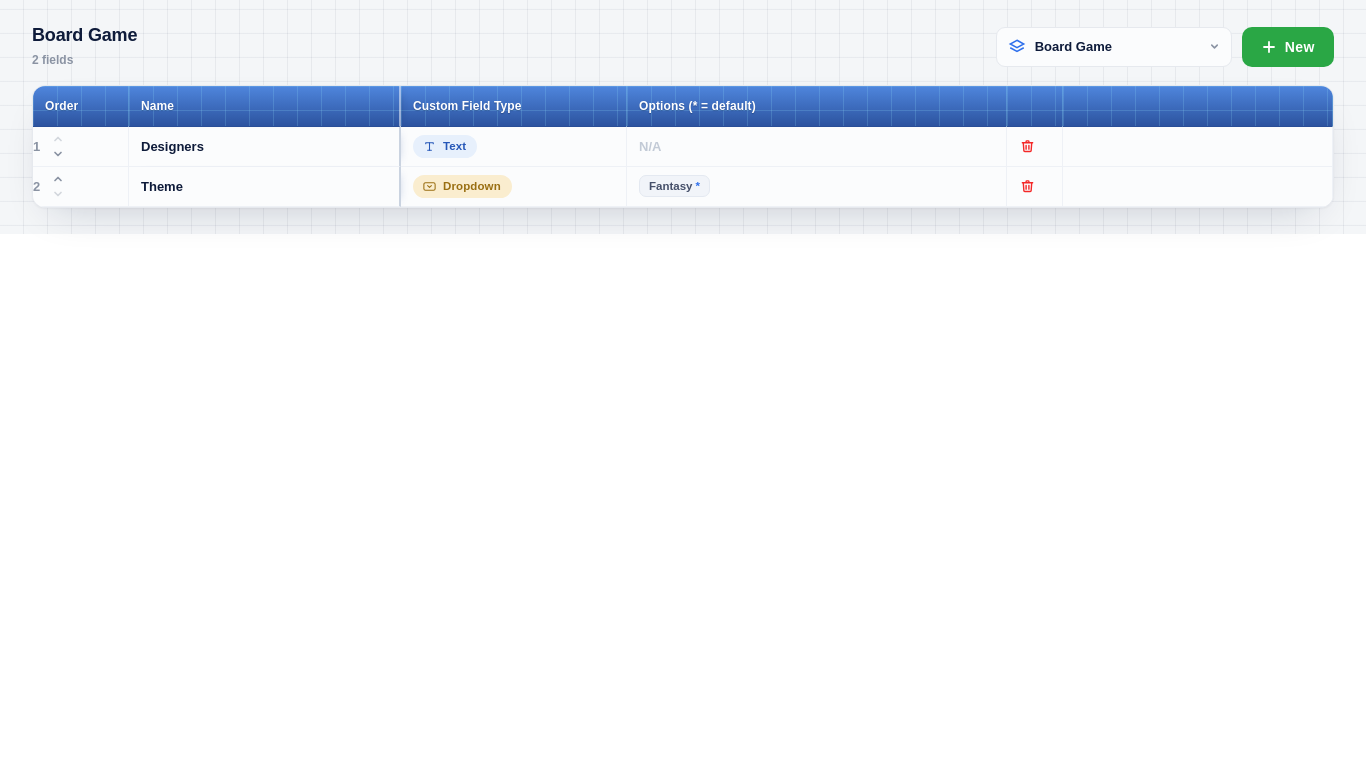
Test: CustomFieldsManager › renames a field inline via the name cell
The width and height of the screenshot is (1366, 768).
Click the button "Designers" at [264, 146], box [135,136,393,157]
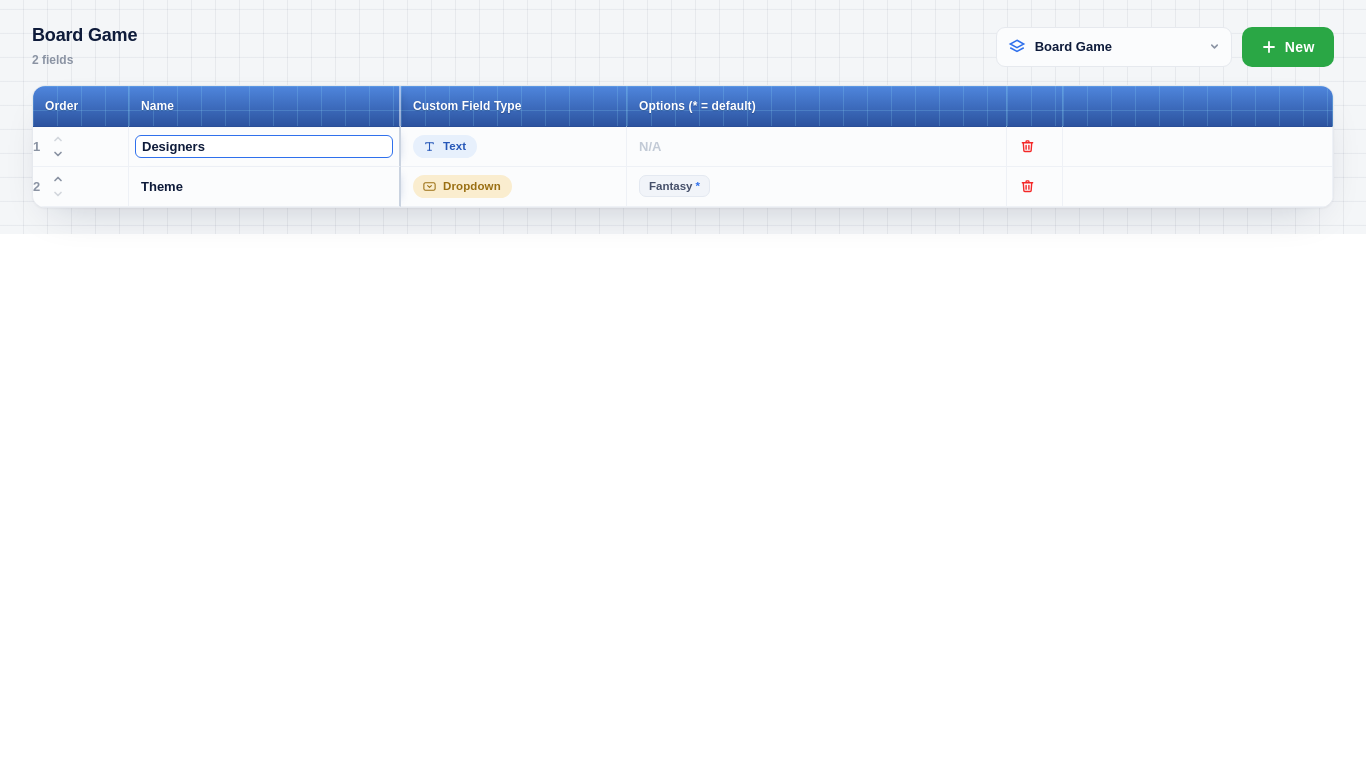
Replace the text in the field named "Name for Designers" with "Designer" at [264, 146], box [135,135,393,158]
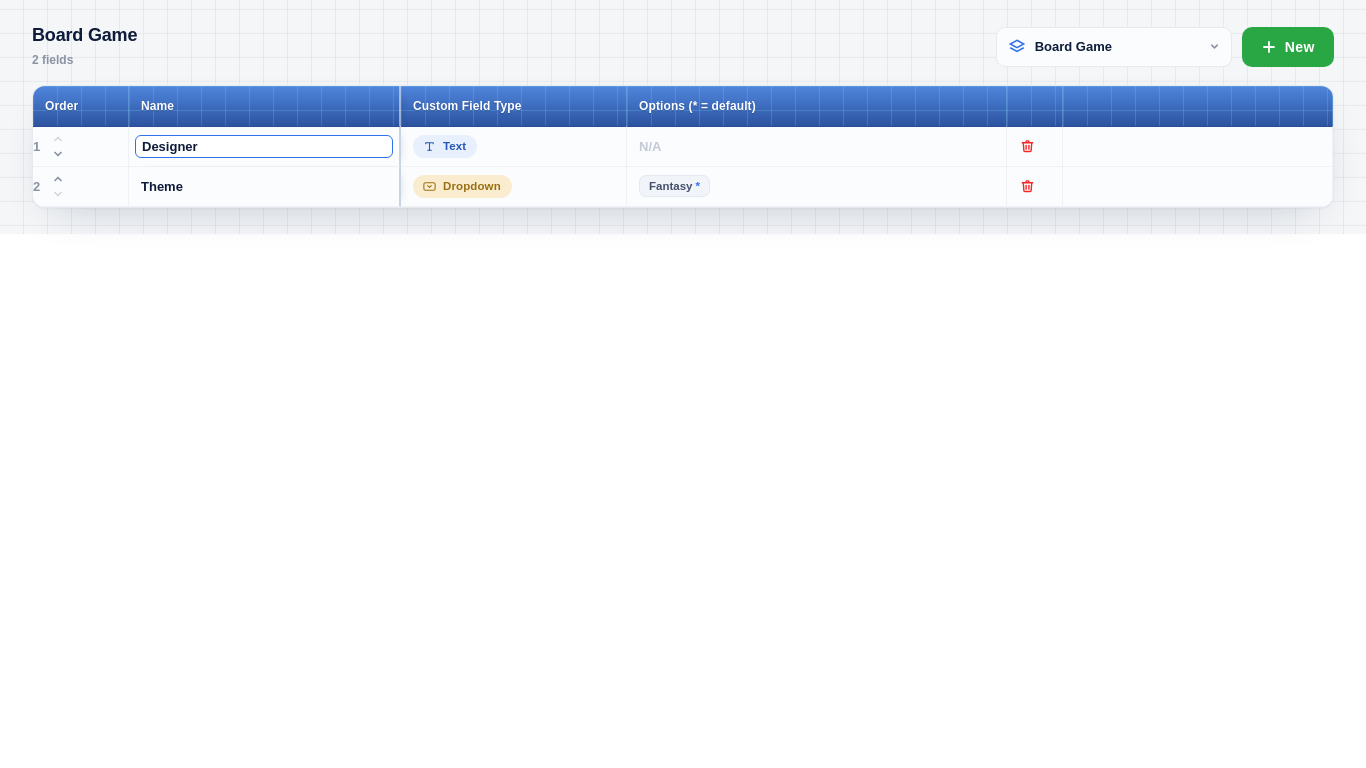
Press Enter in the field named "Name for Designers", box [135,135,393,158]
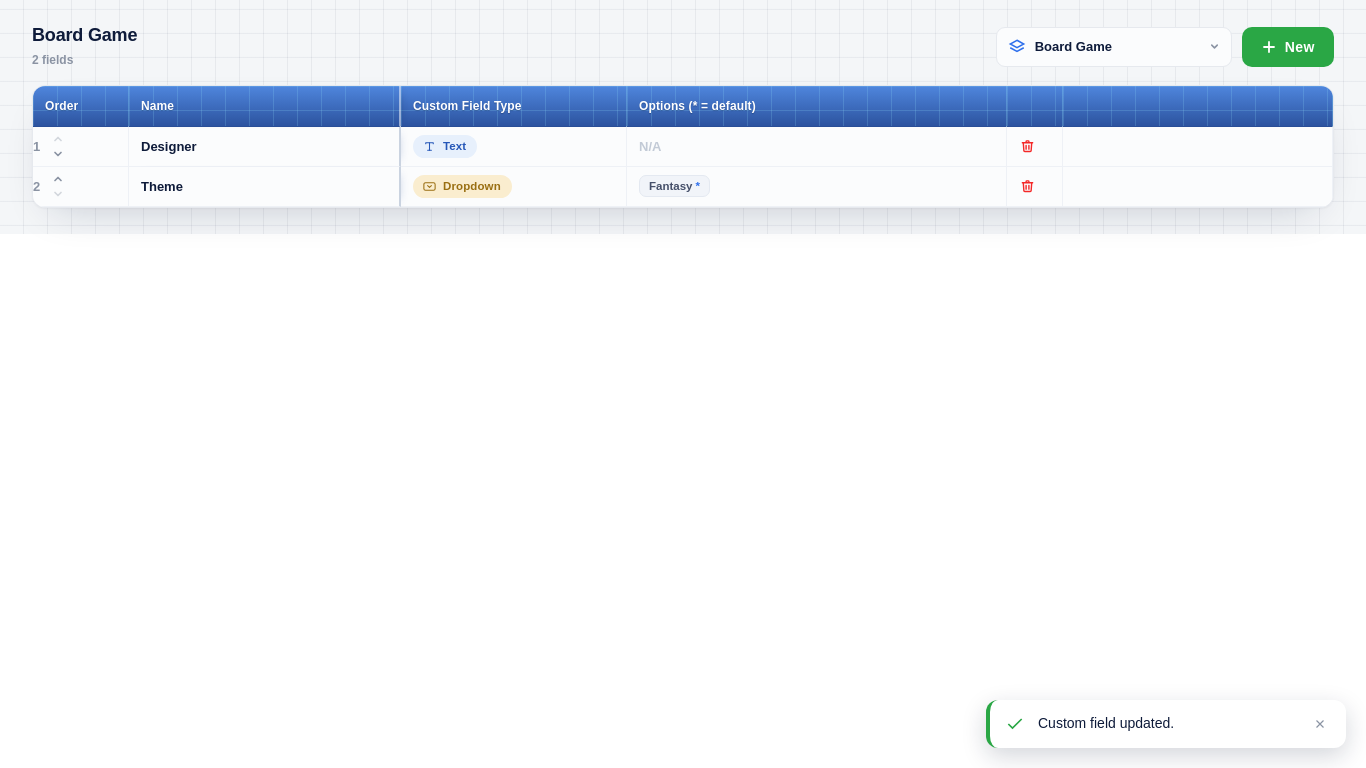
expect the button "Designer" is shown: met, box [135,136,393,157]
